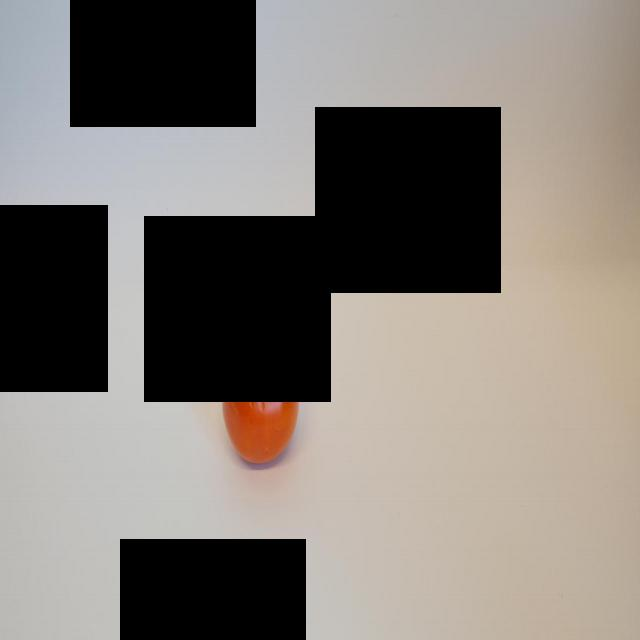tomato: (222, 332, 300, 466)
